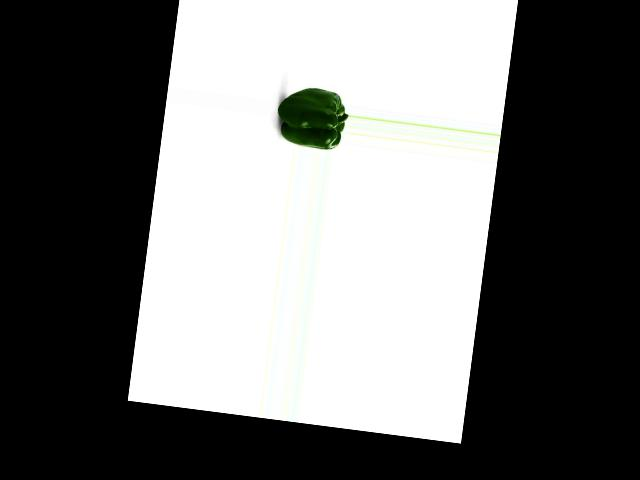bell_pepper: (275, 82, 350, 153)
